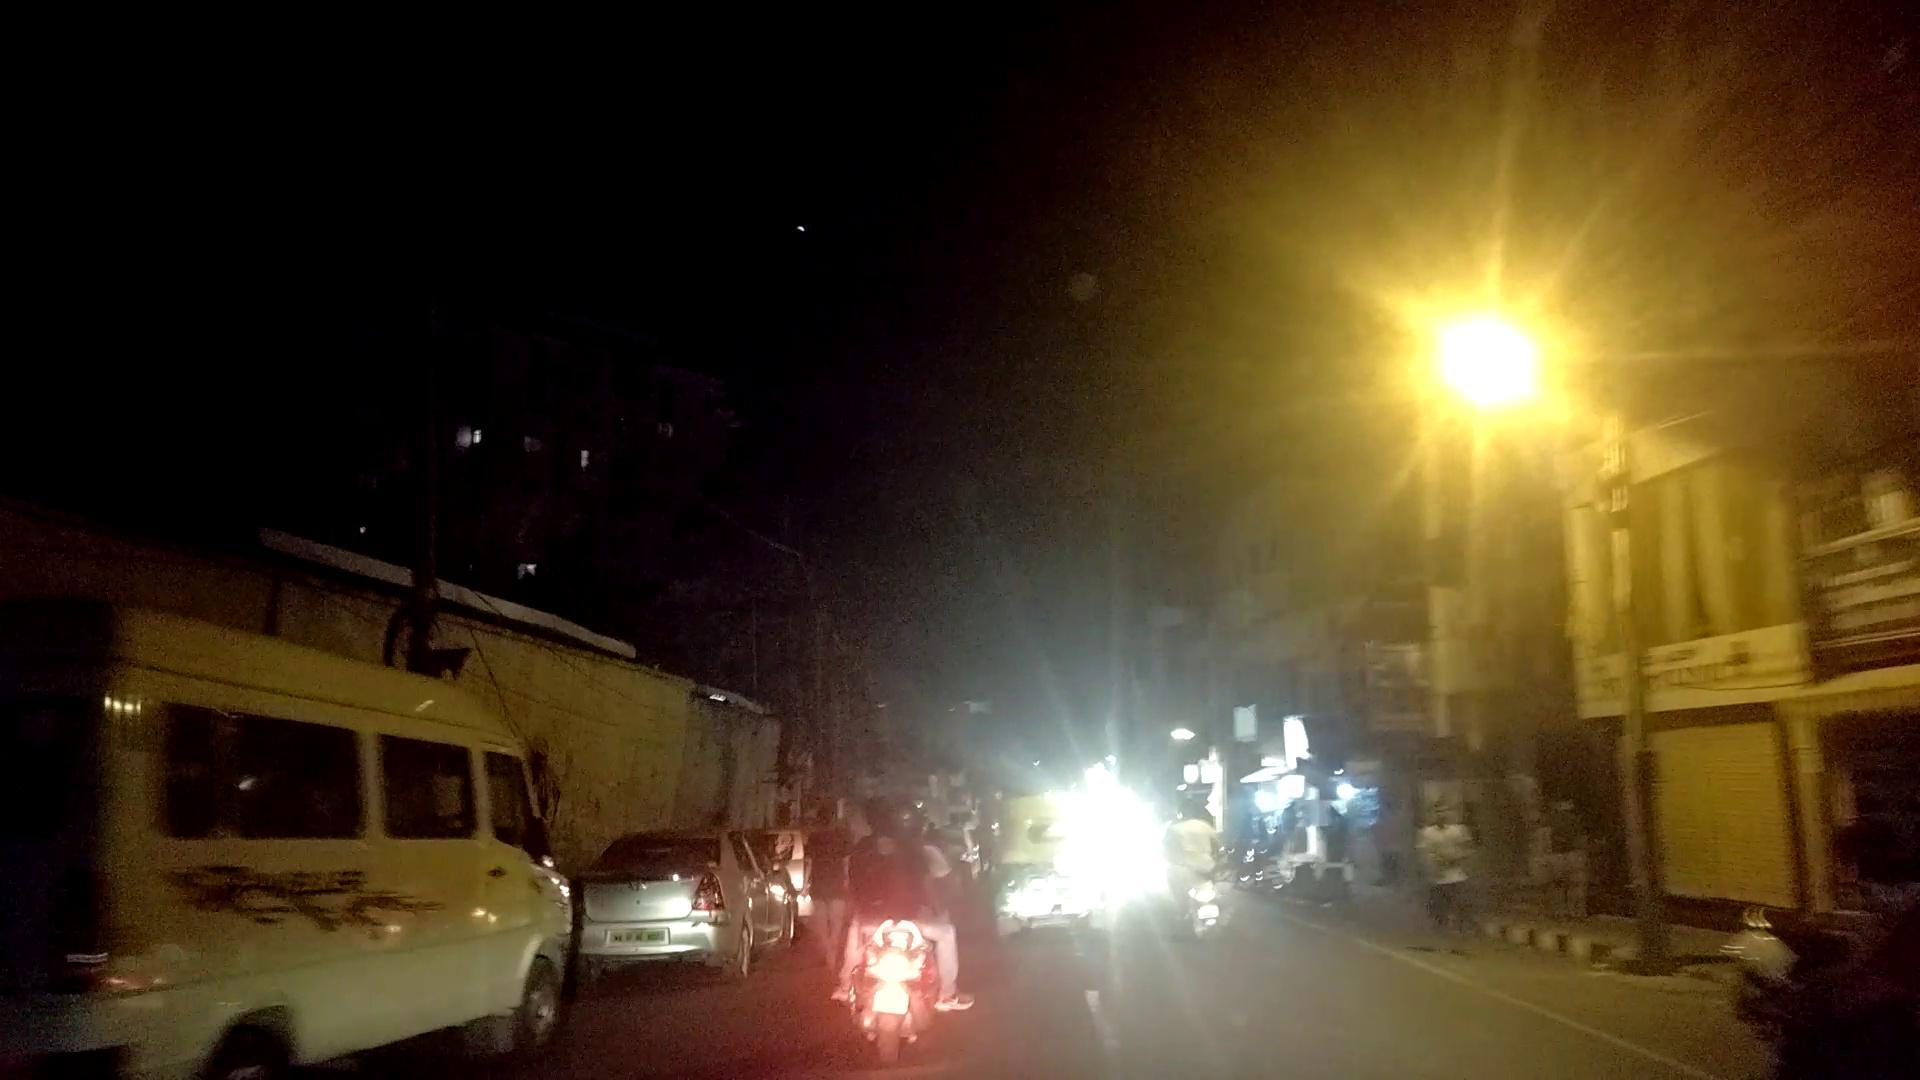on: (1290, 243, 1695, 595)
